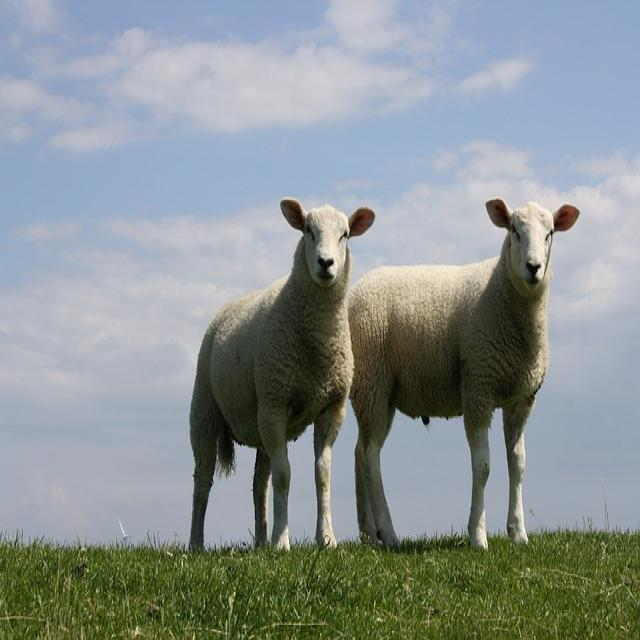sheep: (346, 196, 580, 552), (187, 195, 375, 553)
